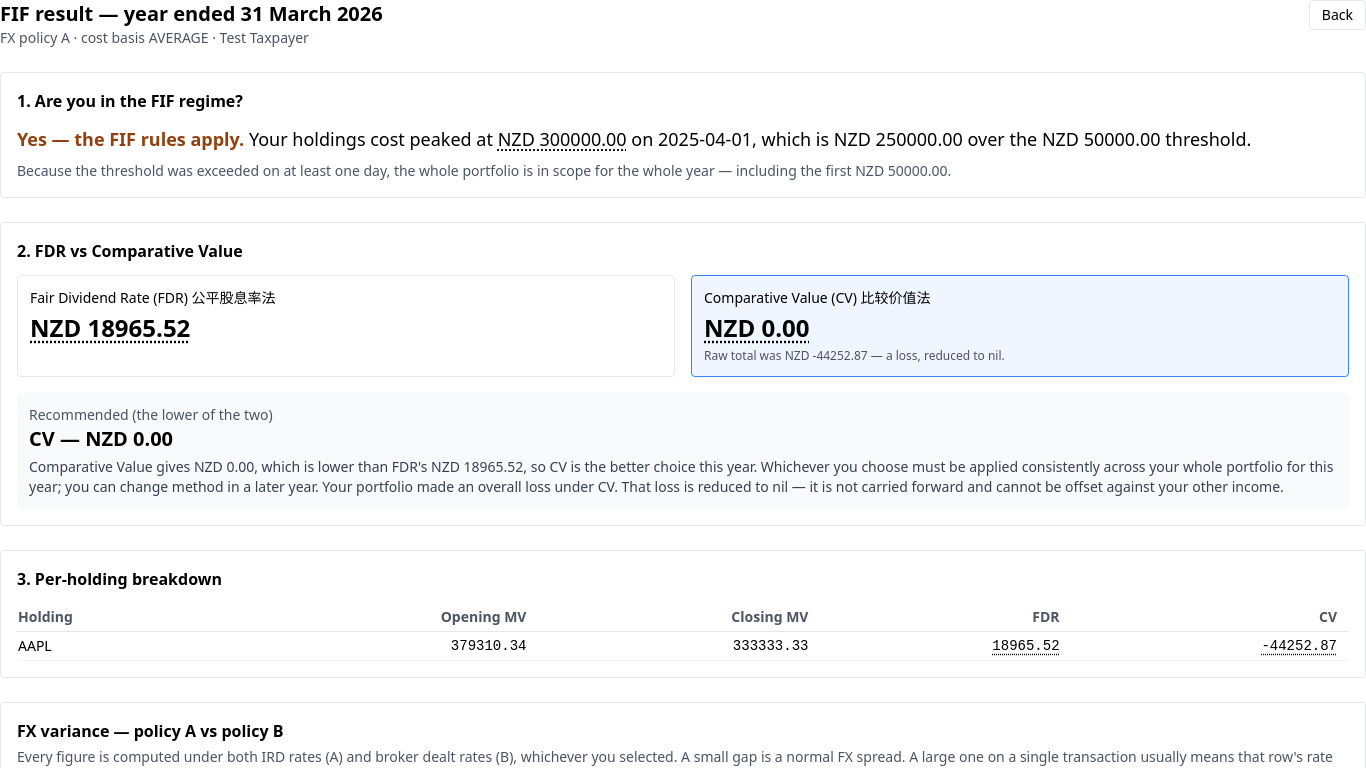
Test: ResultsScreen — GT-1 through the real engine › opens a drill-down showing the formula and inputs when a number is clicked
The width and height of the screenshot is (1366, 768).
Click the button "NZD 18965.52": (110, 328) [30,312,190,344]
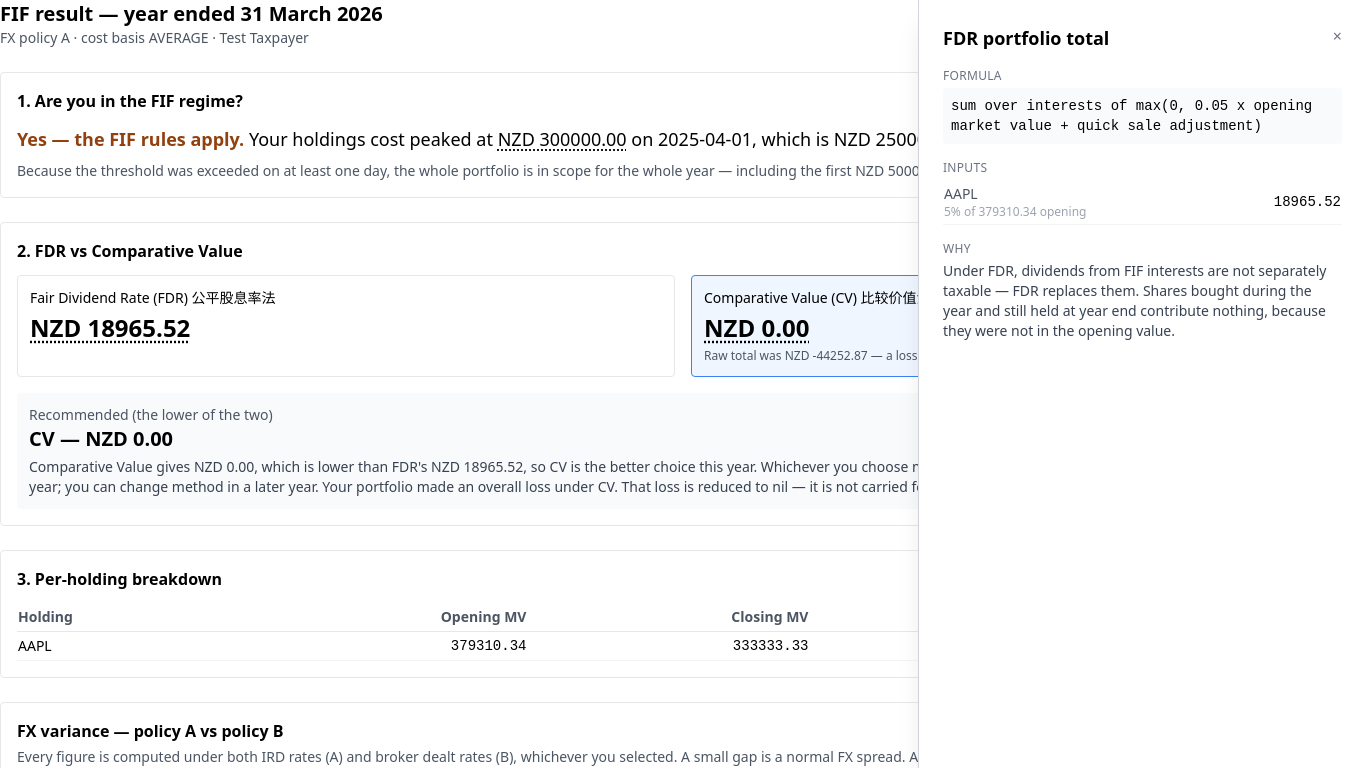
Check: the text "0.05 x opening market value" is shown, box [951,98,1312,134]
Check: the text "dividends from FIF interests are not separately taxable" is shown, box [943,261,1326,340]
